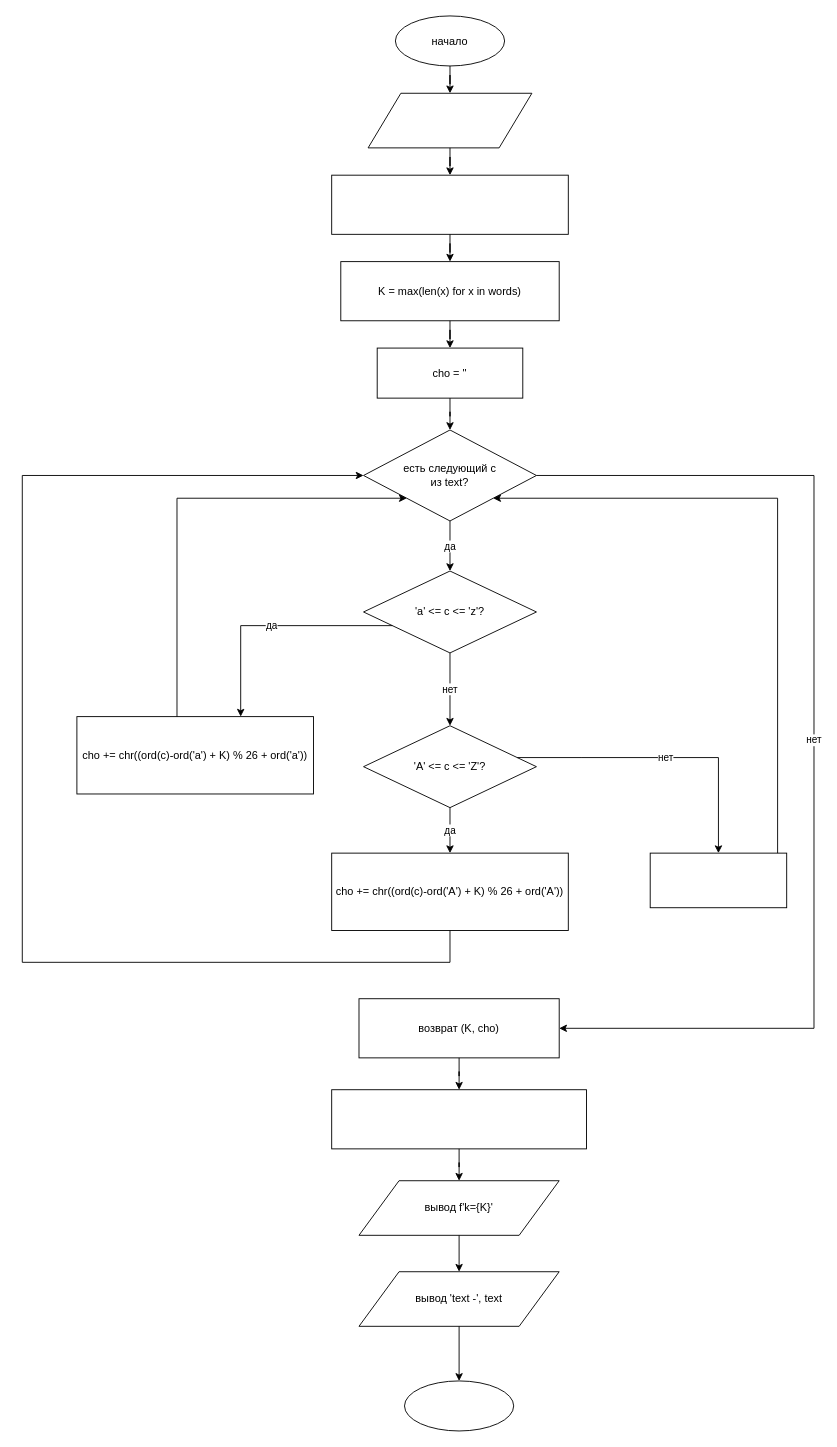
Some shapes in this 837 by 1447 pixel diagram are drawn without their labels. The shapes that lost their labels are listed below. From the top down, each one's centre as x and y in pixels, then its label:
At (x=449, y=120): "ввод текста".
At (x=449, y=204): "words = re.findall(r'[a-zA-Z]+', text)".
At (x=718, y=880): "cho += c".
At (x=458, y=1119): "K, text = func(введённый текст)".
At (x=459, y=1405): "конец".
